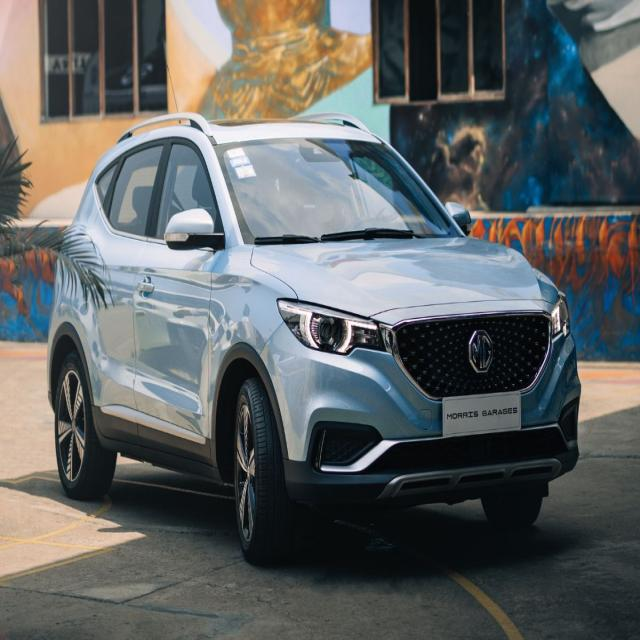SUV: (46, 102, 575, 579)
